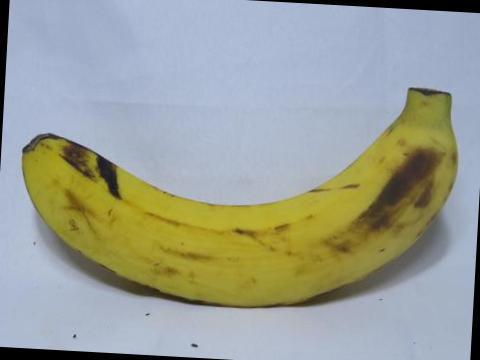ripe: (12, 70, 471, 313)
